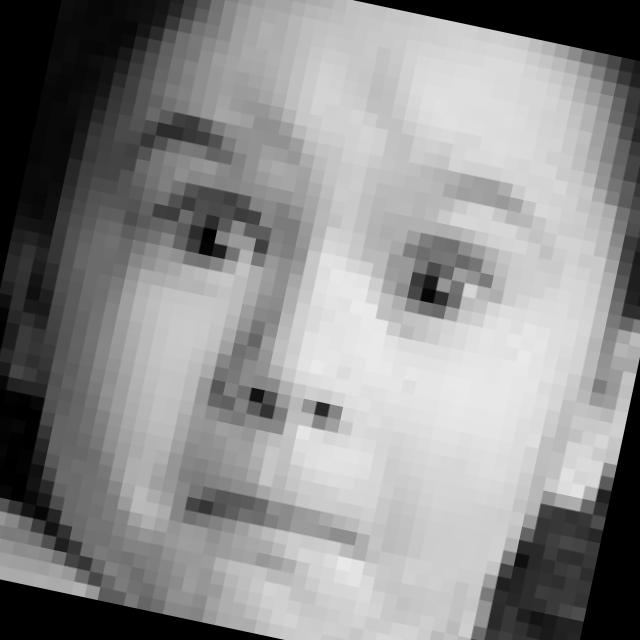fear: (30, 99, 556, 630)
